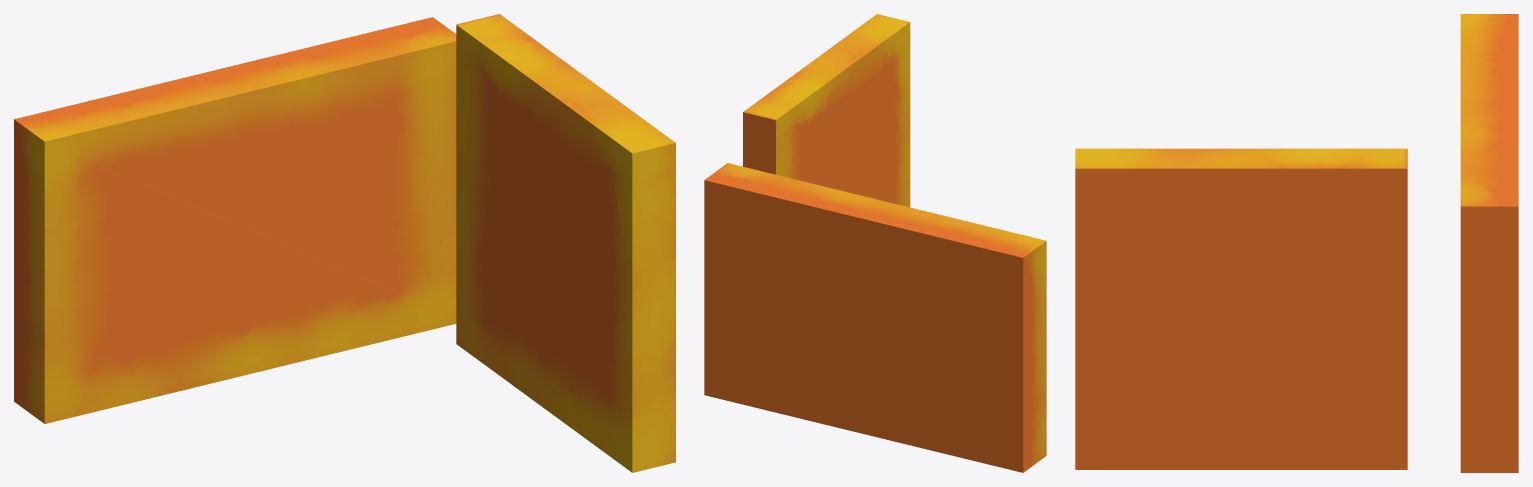
File: walls.fbx
3 renders of one model, left to right at view 1: azimuth 30°, elevation 25°; view 2: azimuth 150°, elevation 25°; view 3: azimuth 270°, elevation 25°, orthographic. The views are drawn at different scales.
Parts seen in each view (by area): view 1: root (×2); view 2: root (×2); view 3: root (×2).
Boxes of the visible parts, x1,y1,x2,y2 form: root (×2): (14,14,675,472); root (×2): (704,14,1046,472); root (×2): (1075,14,1518,472).
Size of the model in its own units: 0.2797 by 0.2045 by 0.2667.
2 materials, 2 textured.
